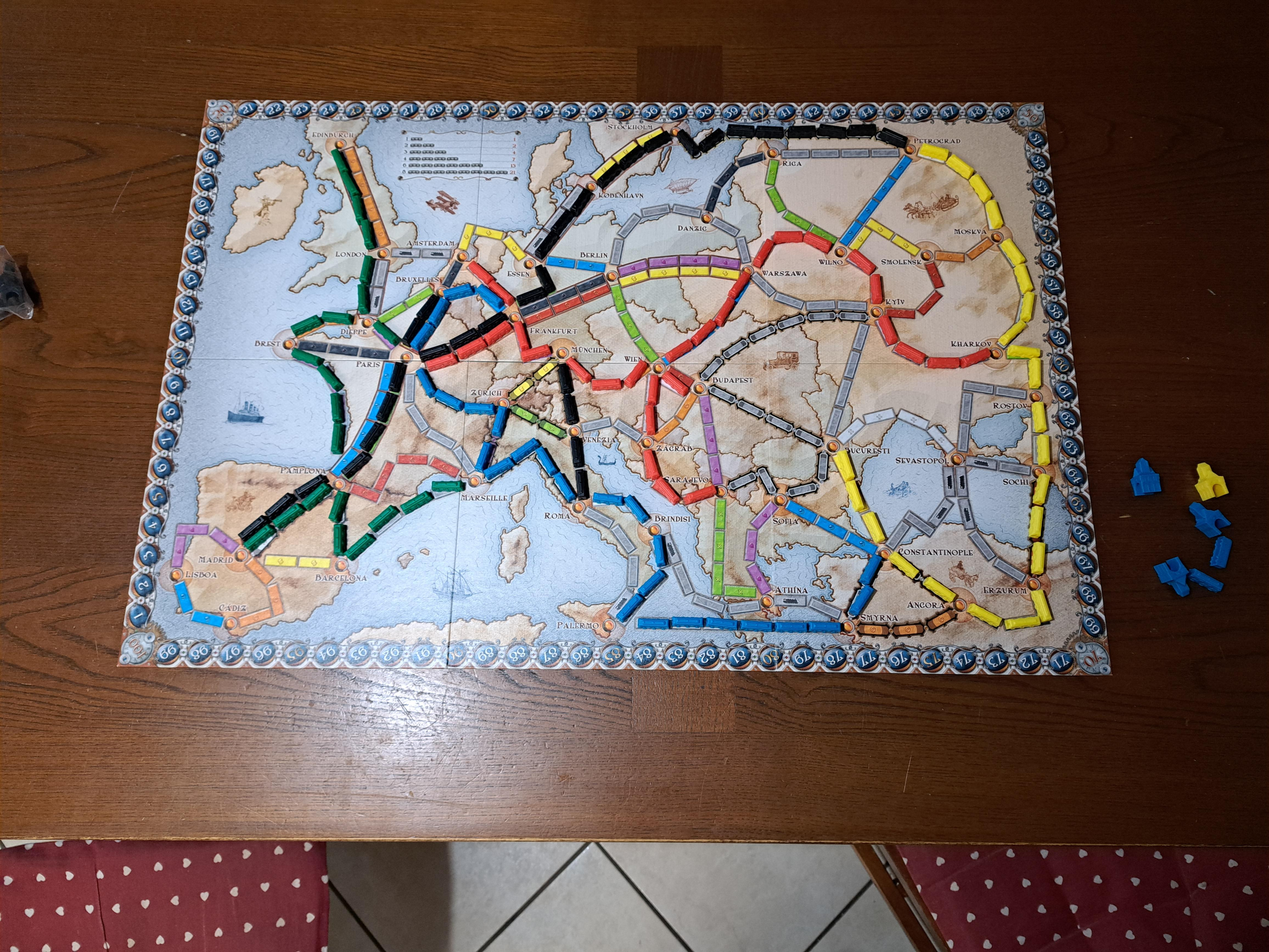corner_bl: (119, 630, 157, 666)
corner_br: (1074, 639, 1111, 674)
corner_tl: (203, 99, 236, 126)
corner_tr: (1013, 103, 1045, 128)
